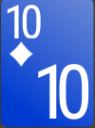Diamond: (8, 42, 33, 67)
